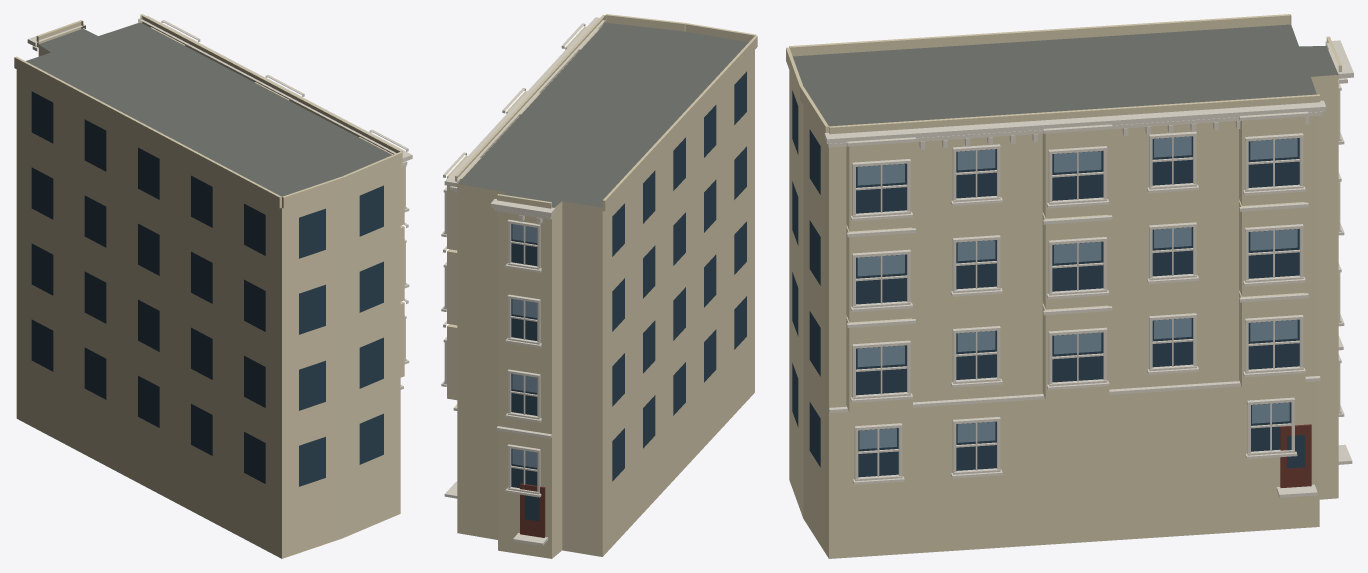
The picture shows the model from 3 angles, left to right: view 1: azimuth 30°, elevation 25°; view 2: azimuth 150°, elevation 25°; view 3: azimuth 270°, elevation 25°; orthographic projection. The views are drawn at different scales.
Parts seen in each view (by area): view 1: Footprint 0 / surface 2, Inset glazing, Footprint 0 / surface 1, Facade bay volumes, Cornices and window frames; view 2: Footprint 0 / surface 2, Footprint 0 / surface 1, Inset glazing, Facade bay volumes, Cornices and window frames, Sky reflection panels, Storefronts and doors; view 3: Footprint 0 / surface 2, Cornices and window frames, Footprint 0 / surface 1, Facade bay volumes, Inset glazing, Sky reflection panels, Storefronts and doors.
Boxes of the visible parts, x1,y1,x2,y2 form: Footprint 0 / surface 2: (16, 45, 400, 558); Inset glazing: (31, 91, 383, 486); Footprint 0 / surface 1: (26, 22, 391, 196); Facade bay volumes: (14, 14, 404, 377); Cornices and window frames: (27, 15, 412, 389); Footprint 0 / surface 2: (457, 50, 754, 558); Footprint 0 / surface 1: (458, 22, 748, 207); Inset glazing: (511, 71, 746, 521); Facade bay volumes: (447, 14, 757, 400); Cornices and window frames: (441, 17, 606, 545); Sky reflection panels: (512, 224, 536, 467); Storefronts and doors: (520, 483, 545, 537); Footprint 0 / surface 2: (789, 70, 1338, 558); Cornices and window frames: (824, 40, 1353, 497); Footprint 0 / surface 1: (792, 24, 1338, 126); Facade bay volumes: (786, 14, 1341, 413); Inset glazing: (792, 90, 1305, 477); Sky reflection panels: (857, 136, 1297, 449); Storefronts and doors: (1280, 424, 1311, 487).
Bounding box in the file's own units: 10.19 × 16.71 × 19.88.
